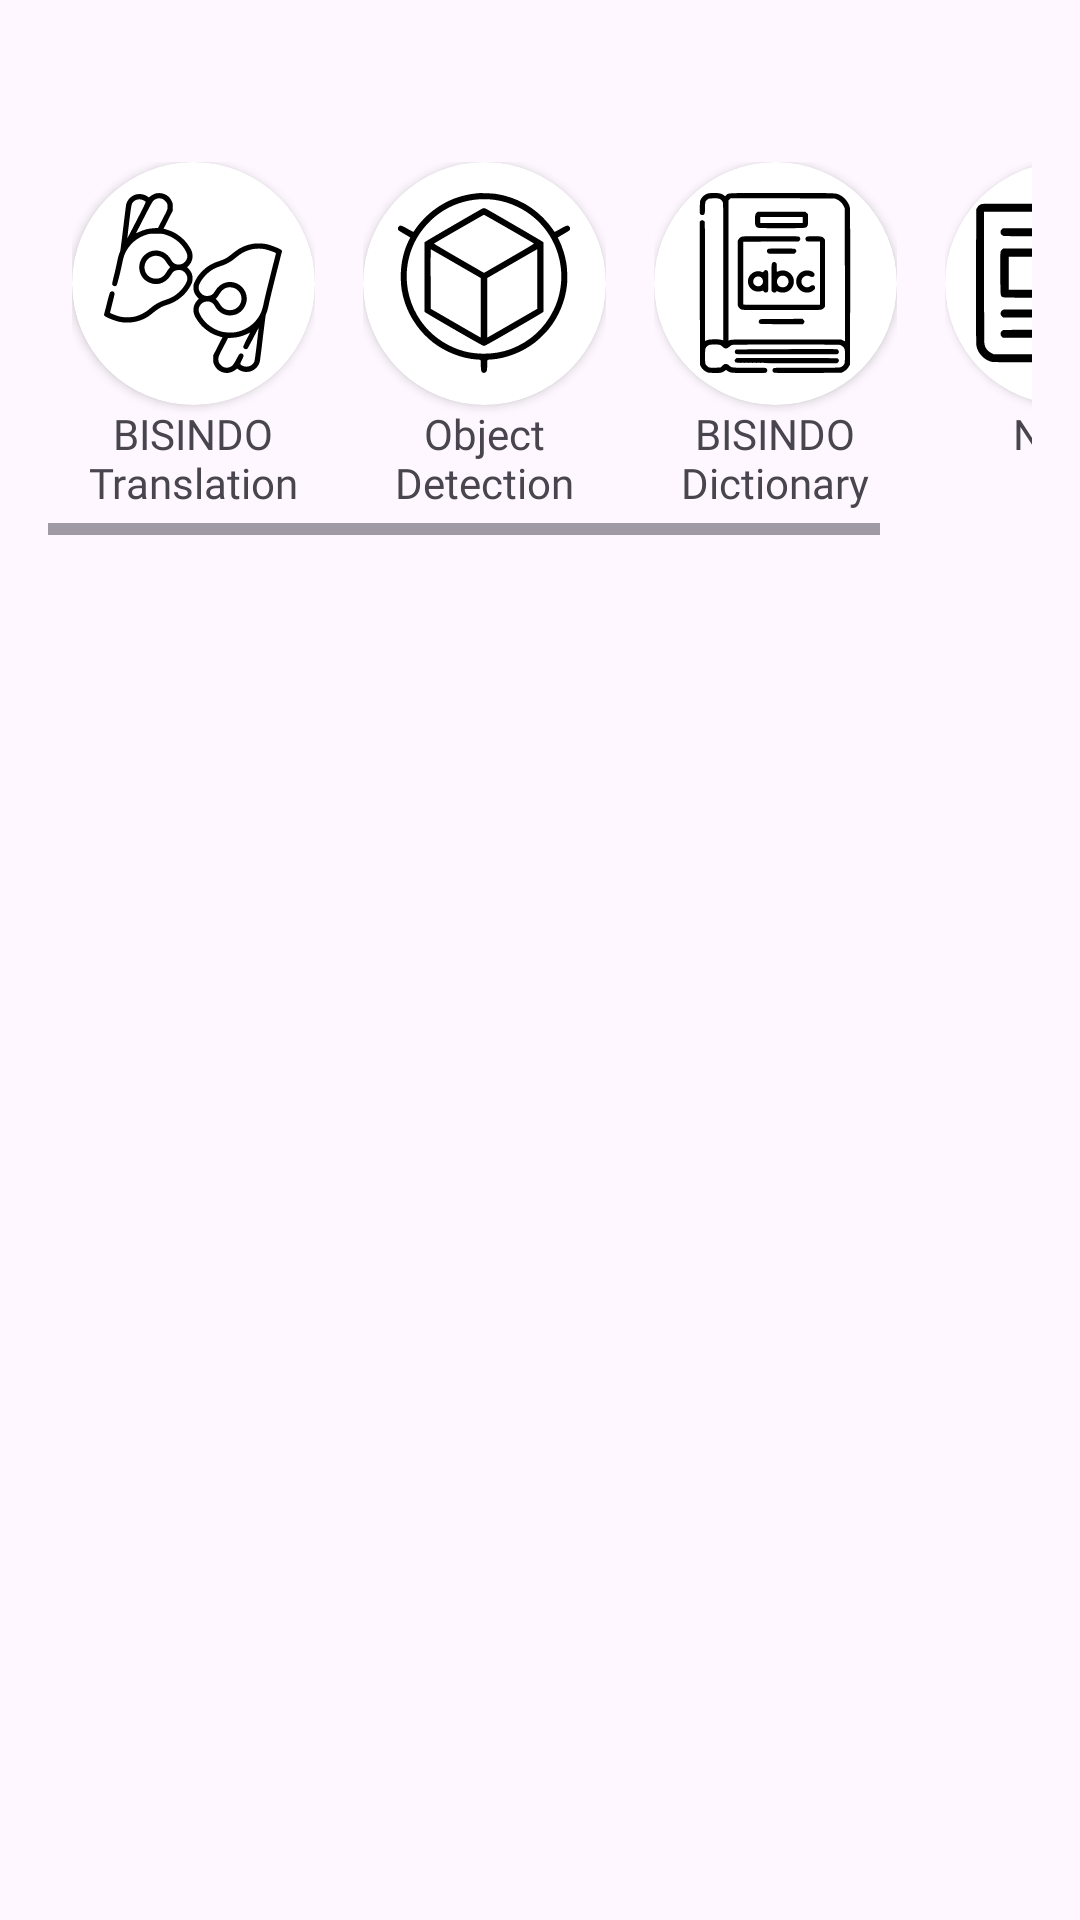

Where icons sit on this 1080×1920 app screen, as (x1, y1, x2, y2):
sign translate: (104, 193, 282, 373)
